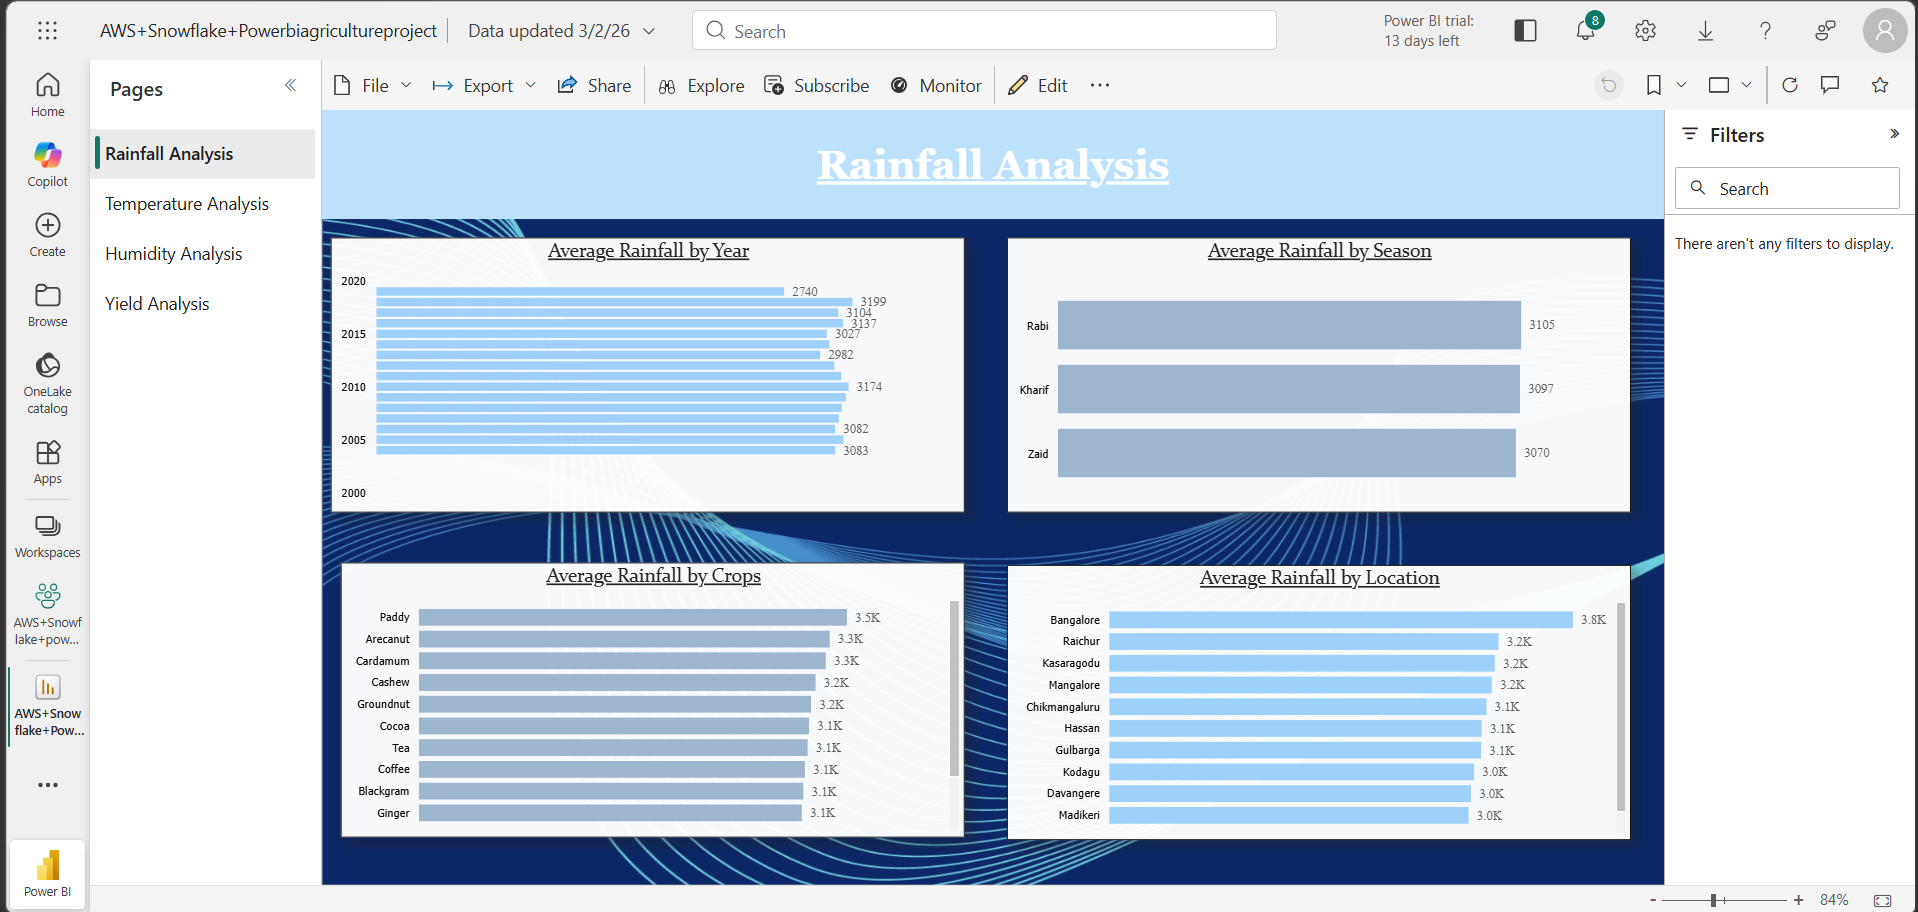

The page's visual inventory and layout, read from the dashboard file:
{"tool":"powerbi","page":{"name":"Rainfall Analysis","canvas":[1280,720],"ordinal":0},"visuals":[{"type":"shape","box":[0,0,1280.3,104.3],"z":0},{"type":"barChart","title":"Average Rainfall by Year","fields":{"Y":["Avg(AGGRECULTURE.RAINFALL)"],"Category":["AGGRECULTURE.YEAR"]},"box":[8.2,122.1,605.1,262.1],"z":1000},{"type":"barChart","title":"Average Rainfall by Season","fields":{"Y":["Avg(AGGRECULTURE.RAINFALL)"],"Category":["AGGRECULTURE.SEASON"]},"box":[653.2,122.1,595.5,262.1],"z":2000},{"type":"barChart","title":"Average Rainfall by Crops","fields":{"Y":["Avg(AGGRECULTURE.RAINFALL)"],"Category":["AGGRECULTURE.CROPS"]},"box":[17.8,432.2,595.5,262.1],"z":3000},{"type":"barChart","title":"Average Rainfall by Location","fields":{"Y":["Avg(AGGRECULTURE.RAINFALL)"],"Category":["AGGRECULTURE.LOCATION"]},"box":[653.2,433.6,595.5,262.1],"z":4000}]}

Visuals, with their boxes on the page's 1280x720 design canvas (x1, y1, x2, y2). These are canvas units, not pixel positions in the 1918x912 screenshot, which may show the page scaled, cropped or inside an application window:
shape: box=[0, 0, 1280, 104]
"Average Rainfall by Year" barChart: box=[8, 122, 613, 384]
"Average Rainfall by Season" barChart: box=[653, 122, 1249, 384]
"Average Rainfall by Crops" barChart: box=[18, 432, 613, 694]
"Average Rainfall by Location" barChart: box=[653, 434, 1249, 696]
